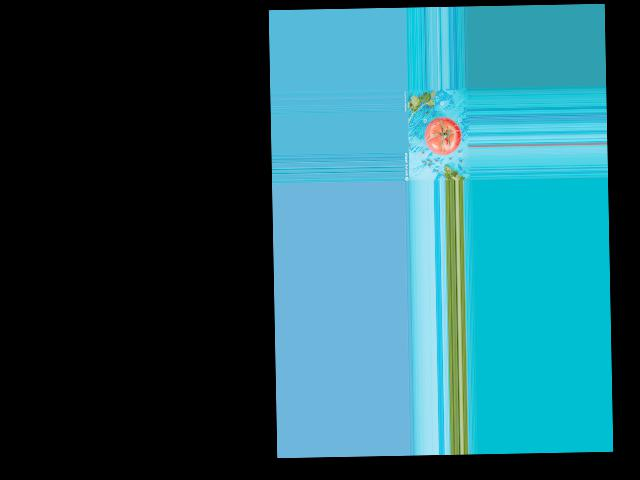tomato: (424, 116, 461, 155)
